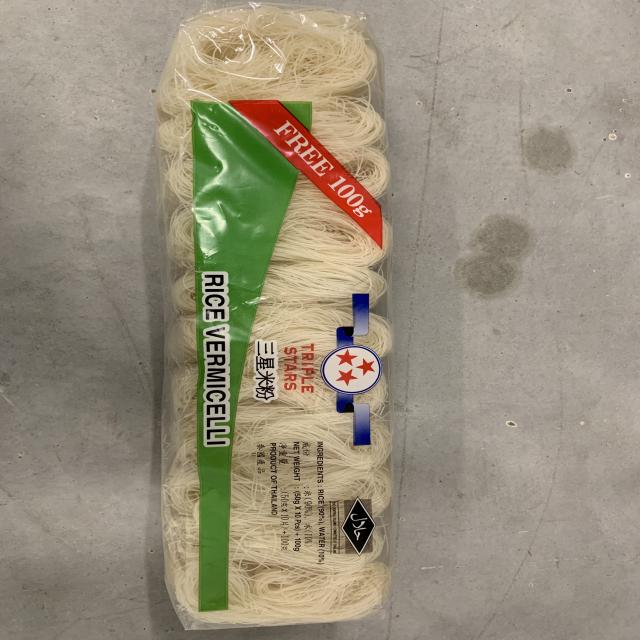object_name: (178, 22, 379, 624)
